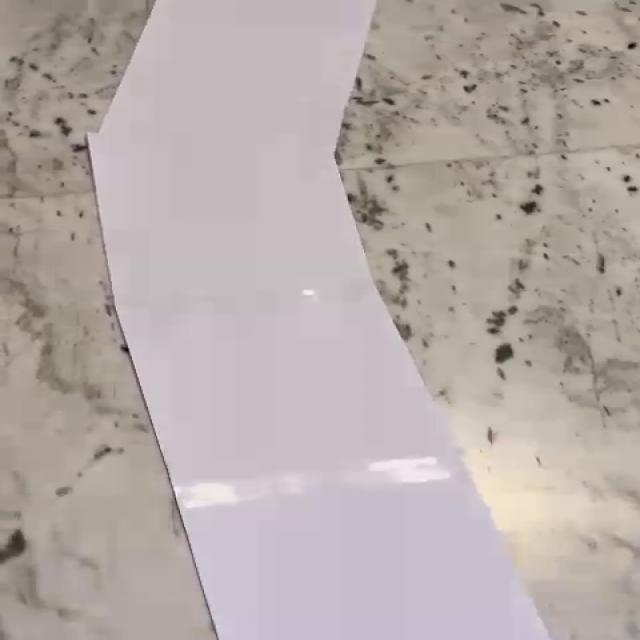road: (88, 0, 551, 640)
